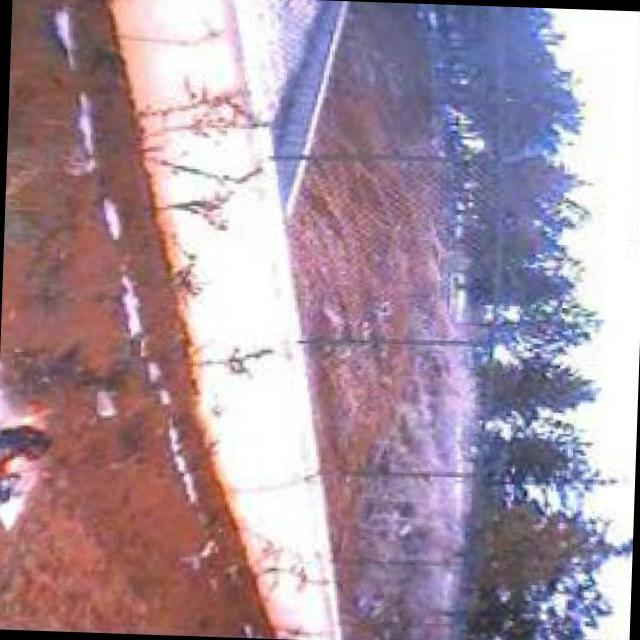Fire: (1, 396, 58, 504)
